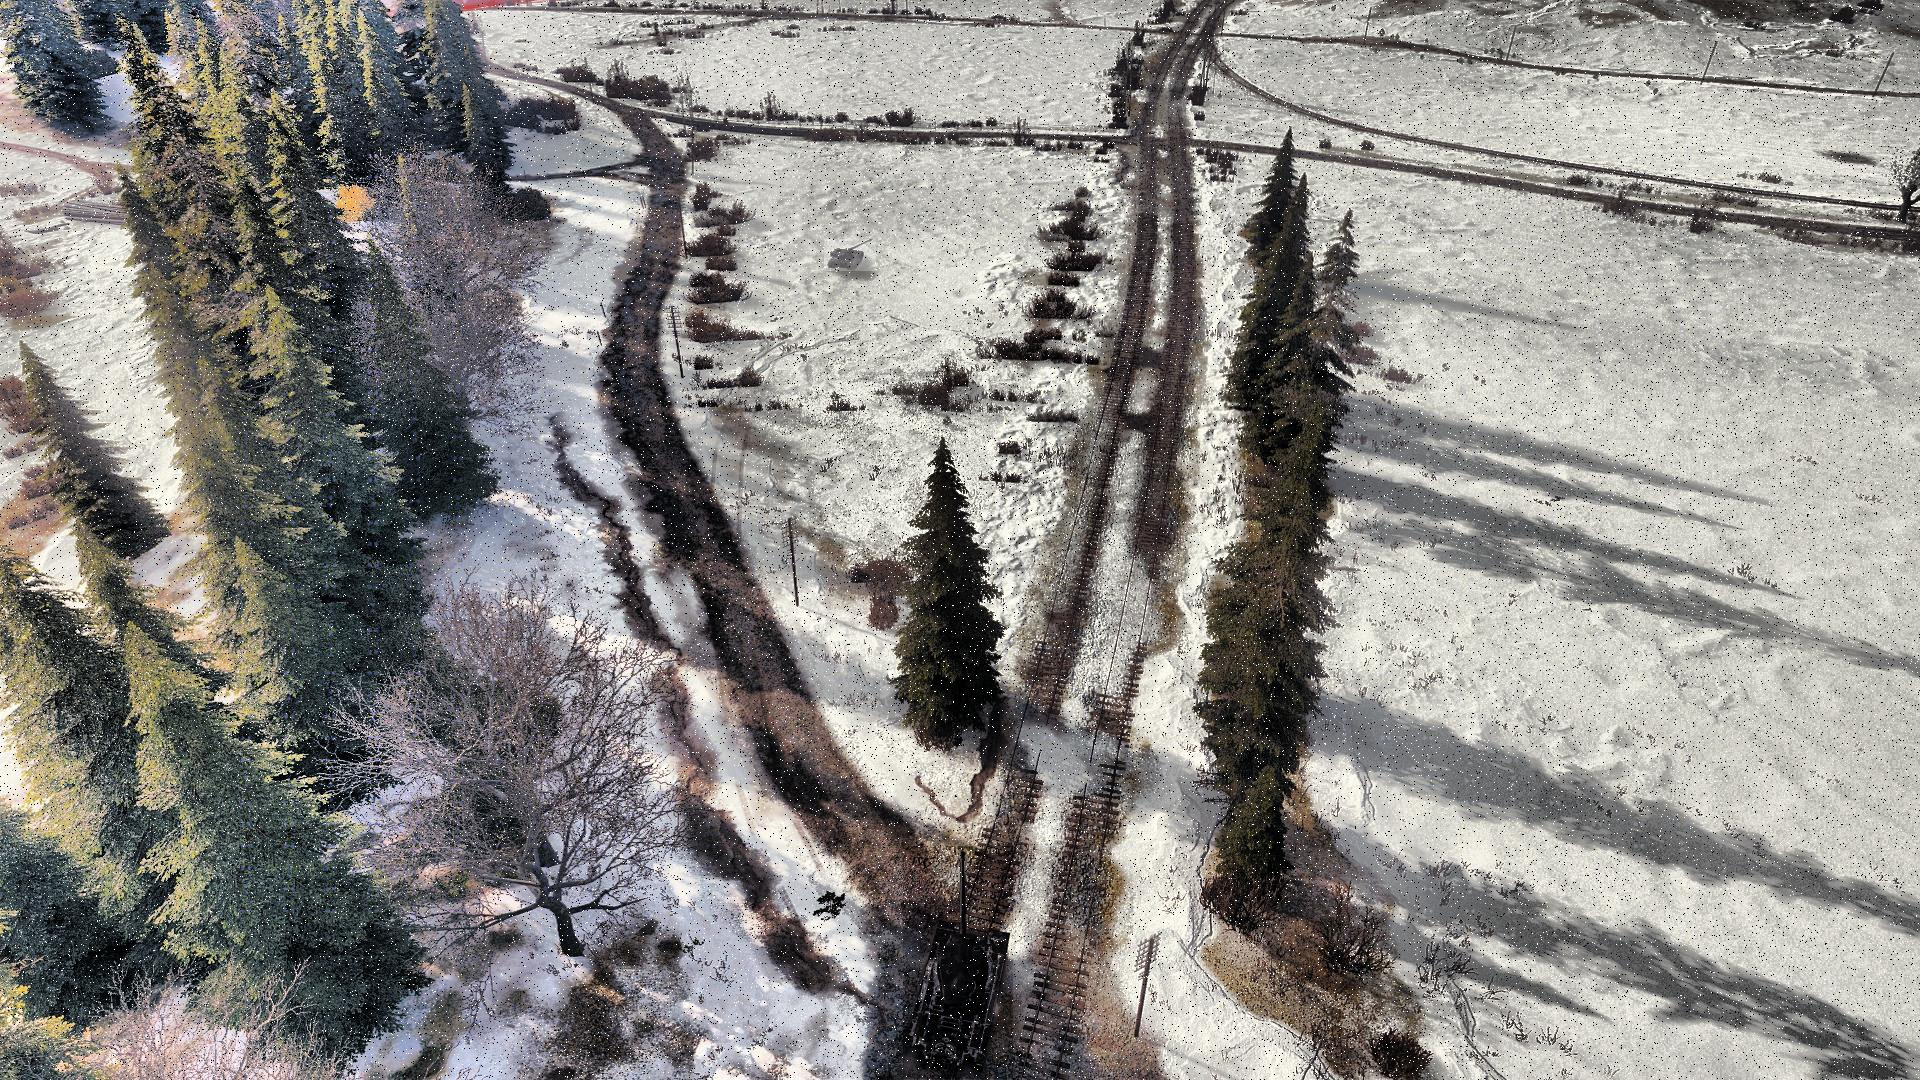military-vehicle: (903, 847, 1013, 1080), (825, 240, 877, 272)
